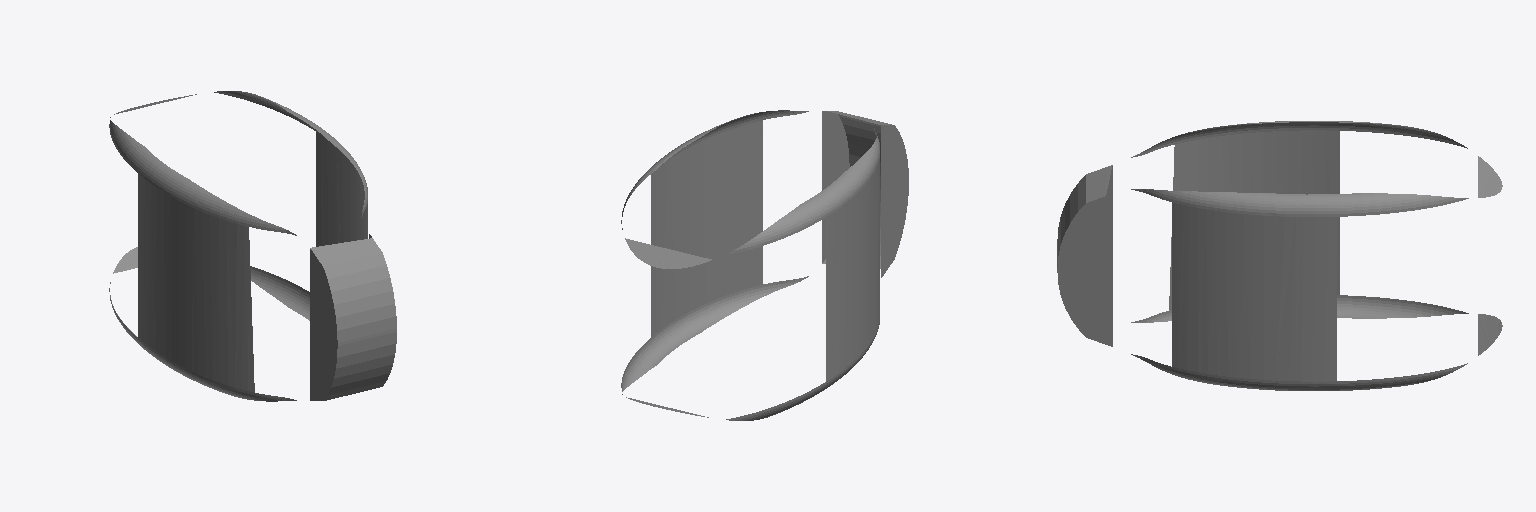
File: test_caudier2.obj
3 views of the same model, side by side, from view 1: azimuth 30°, elevation 25°; view 2: azimuth 150°, elevation 25°; view 3: azimuth 270°, elevation 25° (orthographic).
Visible parts, largest first — view 1: default; view 2: default; view 3: default.
Boxes of the visible parts, x1,y1,x2,y2 form: default: [109, 91, 396, 401]; default: [621, 110, 908, 420]; default: [1057, 121, 1502, 390].
Size of the model in its own units: 0.2362 by 0.248 by 0.5118.